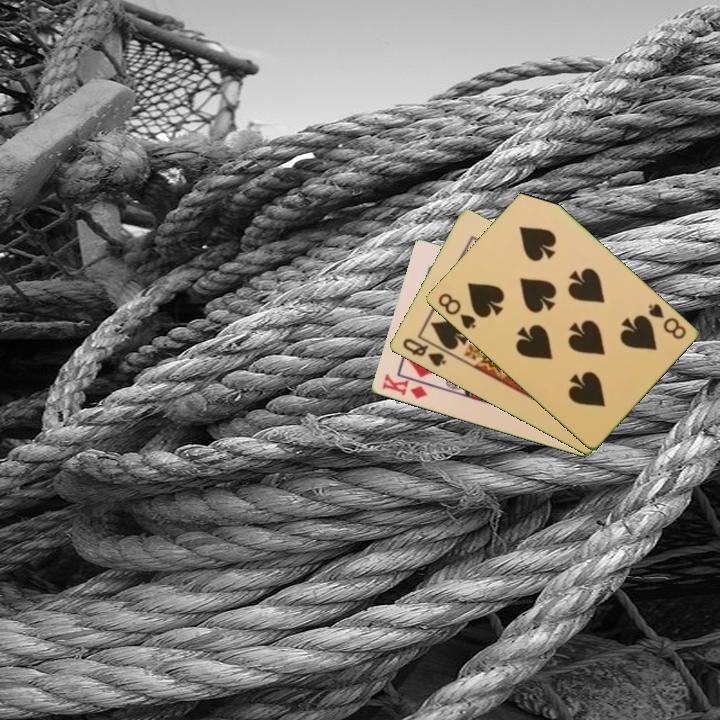8s: (434, 289, 478, 332), (644, 300, 689, 342)
Kd: (378, 370, 430, 402)
Qs: (398, 335, 449, 370)
